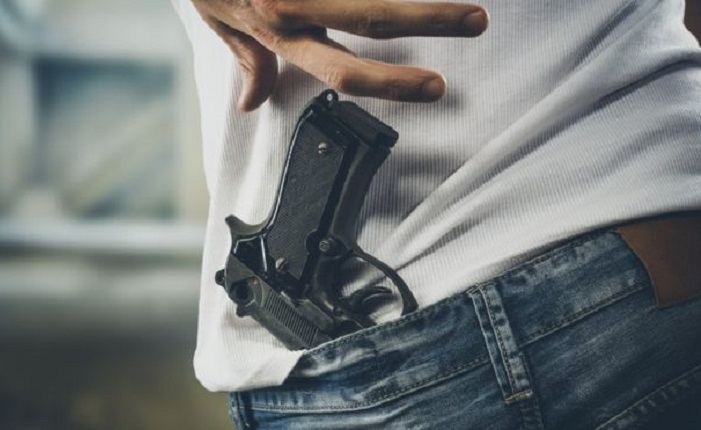Arma Real: (213, 96, 408, 351)
